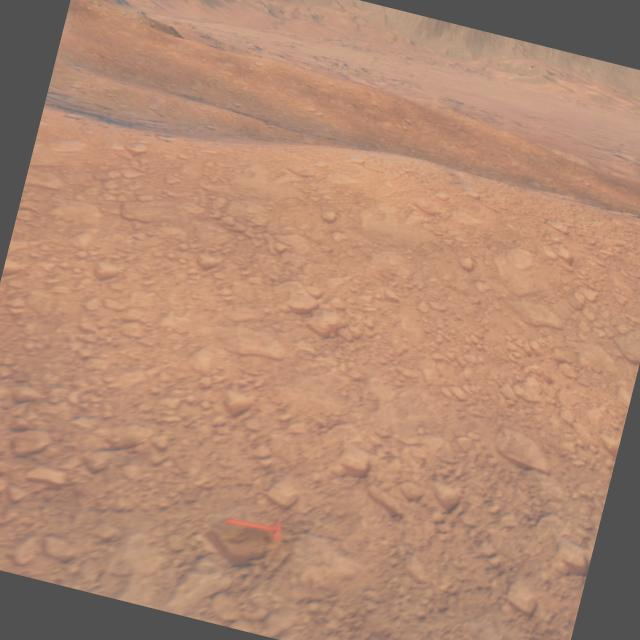newhammer: (224, 504, 284, 542)
